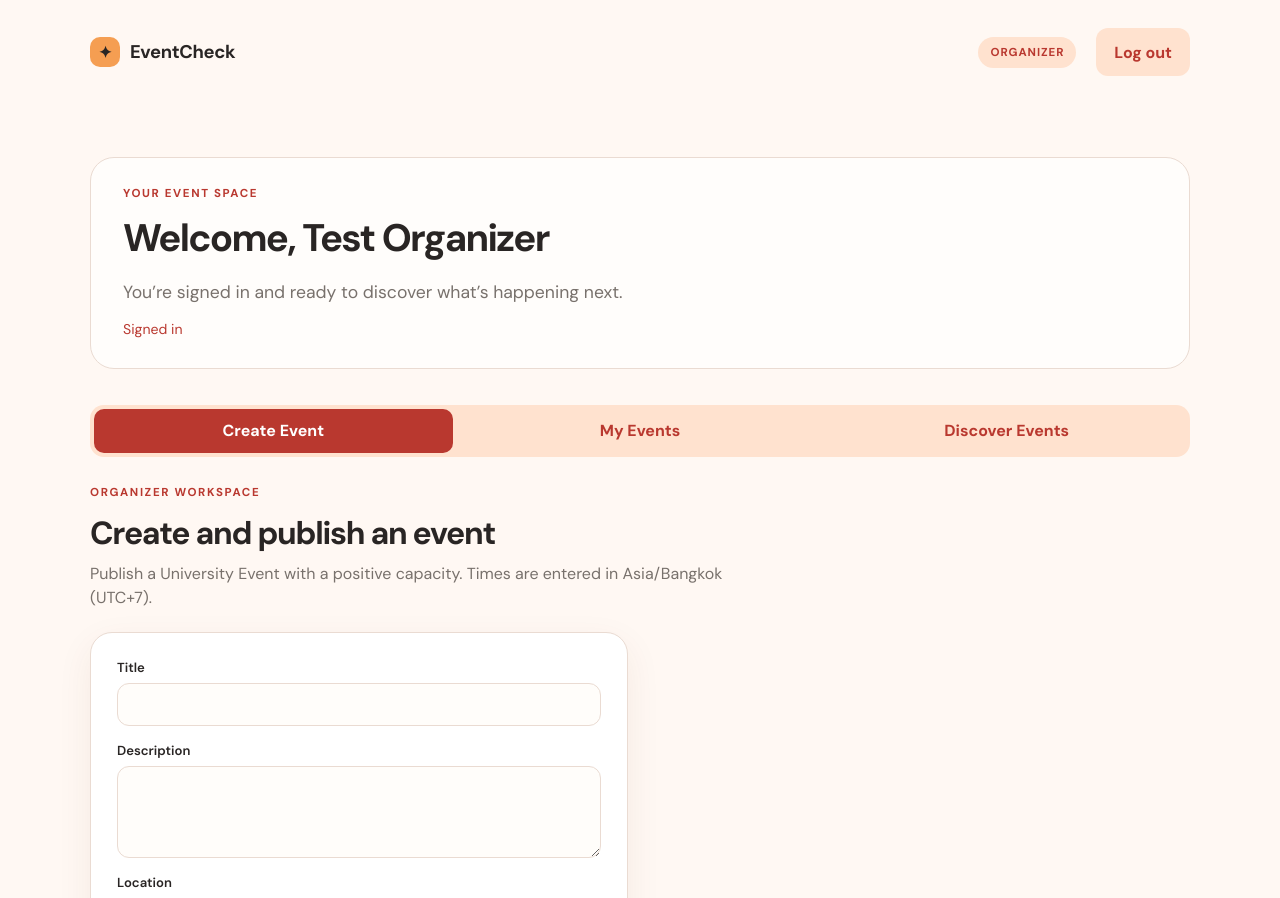
Scenario: F-02 organizer event publishing UI › TEST-F02-09/14: shows a safe message when the selected event is unavailable
Click the tab "My Events" at point(640, 431), box top-left (461, 409), bottom-right (819, 453)
(page scrolled)
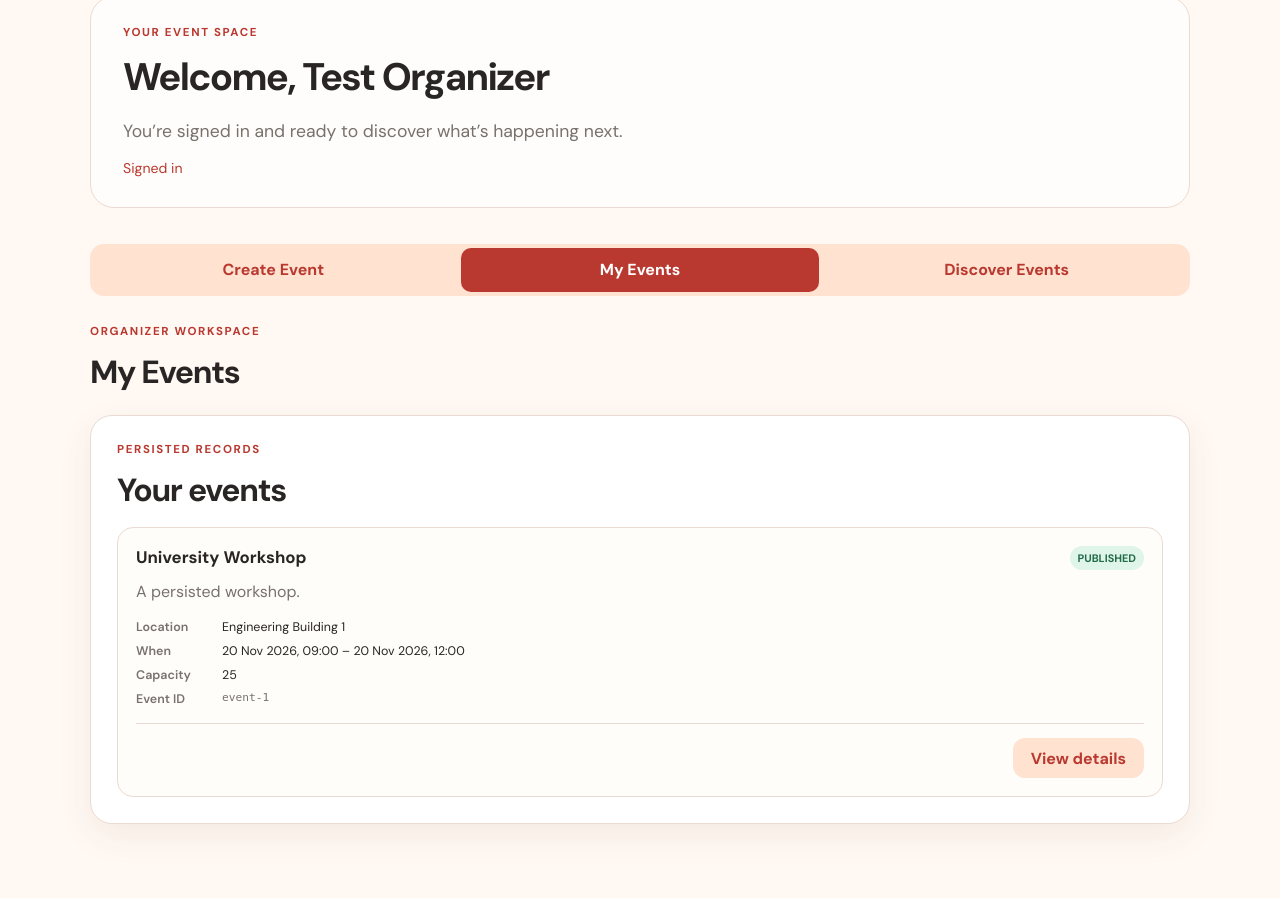
Result: the button "View details" is shown
Click the button "View details" at point(1078, 758), box top-left (1013, 738), bottom-right (1144, 778)
(page scrolled)
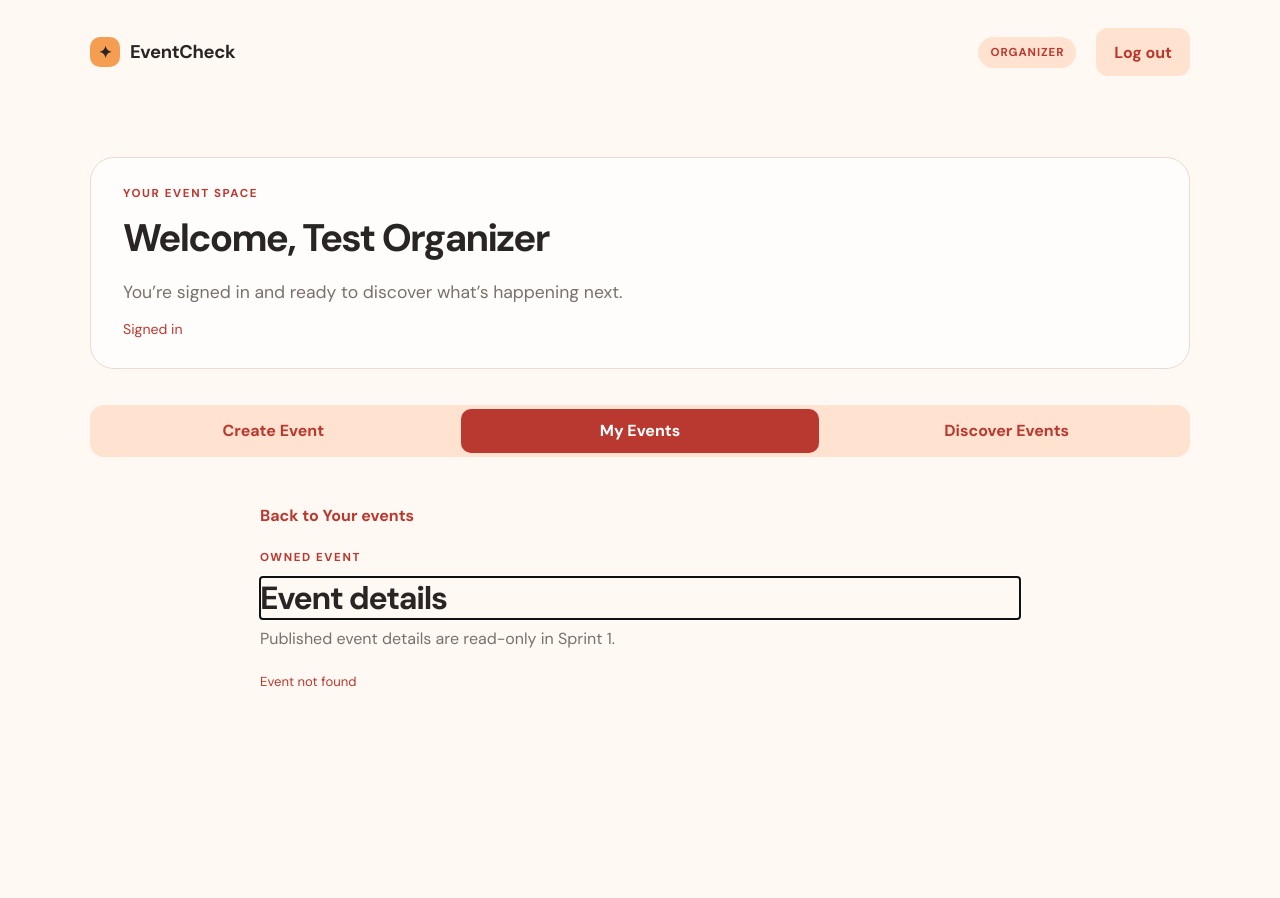
Result: the message "Event not found" is shown at top-left (260, 673), bottom-right (356, 690)
Result: the element "Event details" is shown at top-left (260, 505), bottom-right (615, 690)
